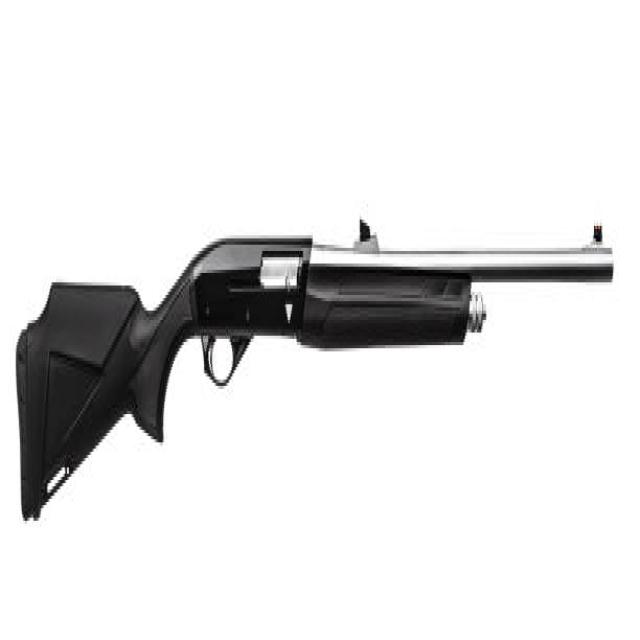rifle: (6, 203, 618, 550)
